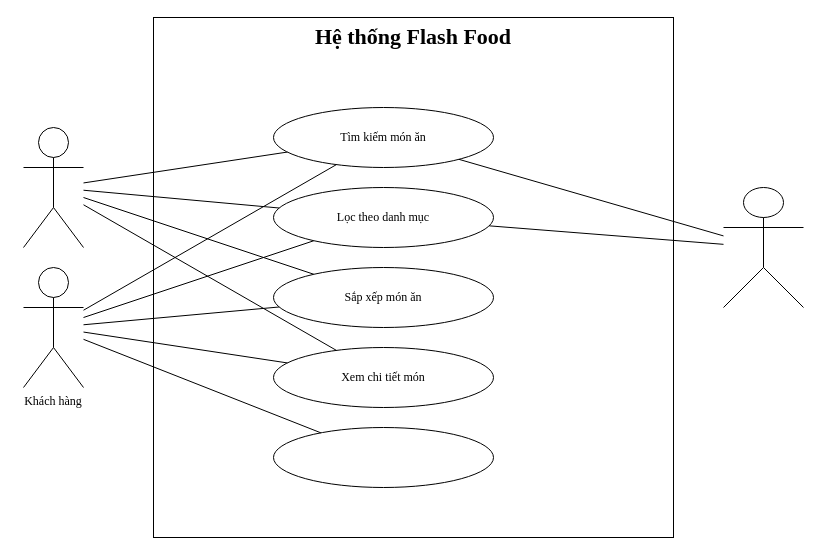
Image size: 827x555. Some labels were removed from this diagram. Each missing label, with the box of its shape:
Hệ thống tìm kiếm: (722, 186, 804, 308)
Khách vãng lai: (22, 126, 84, 248)
Thêm vào giỏ: (272, 426, 494, 488)
